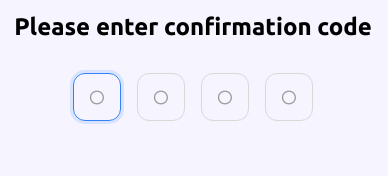
it: CodeConfirm › displays error message when verification fails
Type "1" into the field with test id "^code-input-\\d$" at (97, 97), box [73, 73, 121, 121]
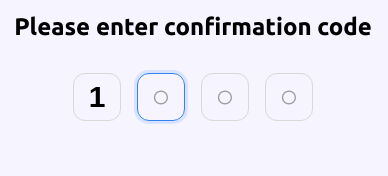
Type "2" into the field with test id "^code-input-\\d$" at (161, 97), box [137, 73, 185, 121]
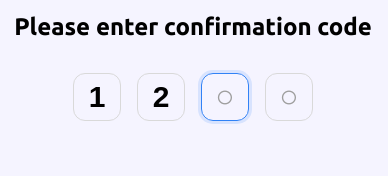
Type "3" into the field with test id "^code-input-\\d$" at (225, 97), box [201, 73, 249, 121]
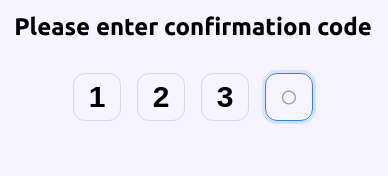
Type "4" into the field with test id "^code-input-\\d$" at (289, 97), box [265, 73, 313, 121]
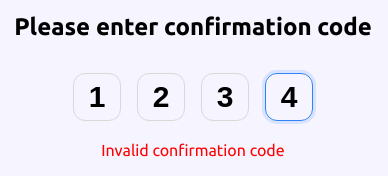
Expected: the text "Invalid confirmation code" is shown, [101, 141, 285, 159]
